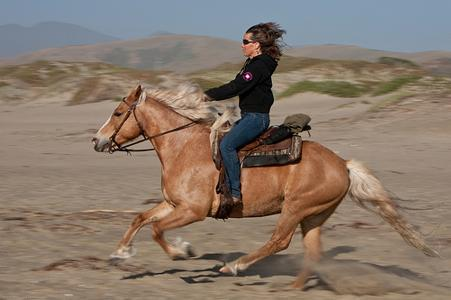person: (203, 23, 283, 205)
